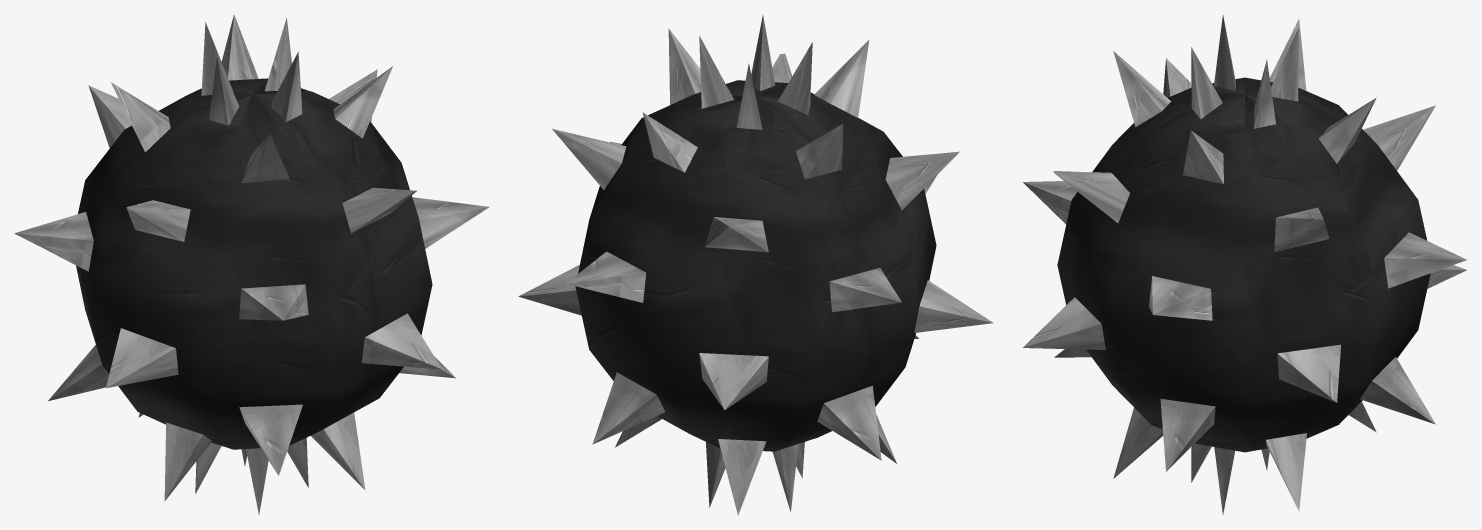
File: SpikeBall.fbx
3 views of the same model, side by side, from view 1: azimuth 30°, elevation 25°; view 2: azimuth 150°, elevation 25°; view 3: azimuth 270°, elevation 25° (orthographic).
Visible parts, largest first — view 1: SpikeTrap001; view 2: SpikeTrap001; view 3: SpikeTrap001.
Boxes of the visible parts, <box> form: SpikeTrap001: <box>14,14,489,515</box>; SpikeTrap001: <box>518,14,993,515</box>; SpikeTrap001: <box>1023,15,1466,514</box>.
Bounding box in the file's own units: 2.37 × 2.69 × 2.37.
